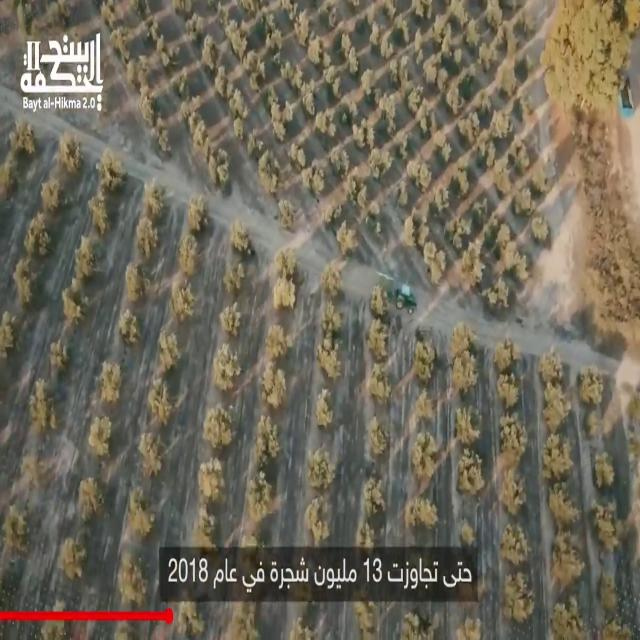trees: (186, 448, 237, 512), (344, 571, 390, 640), (18, 368, 57, 448), (489, 566, 537, 628), (83, 348, 126, 416), (575, 364, 610, 442), (55, 270, 100, 330), (238, 469, 281, 529), (448, 320, 479, 401), (202, 144, 240, 210), (544, 534, 591, 586), (6, 254, 44, 318), (587, 497, 627, 557), (538, 479, 586, 528), (293, 498, 339, 549), (164, 269, 204, 327), (67, 472, 107, 530), (242, 415, 284, 470), (124, 477, 160, 541), (535, 432, 581, 482), (142, 372, 183, 428), (285, 558, 336, 603), (182, 105, 217, 170), (180, 507, 224, 558), (116, 542, 150, 608), (541, 593, 588, 640), (70, 221, 108, 279), (14, 208, 56, 260), (125, 77, 164, 133), (497, 516, 537, 570), (134, 170, 171, 228), (256, 146, 290, 208), (307, 331, 346, 385), (250, 358, 292, 408), (262, 85, 298, 143), (74, 412, 114, 464), (8, 101, 40, 166), (204, 340, 243, 392), (298, 448, 342, 494), (54, 534, 91, 588), (0, 304, 27, 378), (452, 445, 488, 500), (119, 257, 155, 312), (2, 493, 28, 569), (195, 399, 237, 446), (536, 383, 574, 434), (348, 525, 391, 570), (359, 360, 398, 409), (135, 429, 170, 483), (130, 211, 162, 270), (226, 82, 252, 154), (92, 144, 126, 198), (266, 268, 304, 316), (495, 415, 536, 459), (110, 306, 144, 359), (32, 168, 68, 218), (172, 226, 204, 282), (174, 586, 207, 640), (150, 324, 187, 372), (502, 458, 535, 510), (56, 124, 84, 185), (362, 317, 398, 364), (403, 492, 438, 540), (411, 426, 442, 480), (180, 188, 214, 237), (238, 531, 270, 583), (105, 15, 137, 67), (306, 384, 342, 430), (490, 372, 529, 414), (86, 187, 120, 235), (452, 514, 482, 568), (308, 96, 338, 150), (116, 48, 156, 88), (42, 334, 76, 381), (366, 408, 396, 461), (213, 295, 246, 343), (296, 76, 329, 124), (324, 135, 358, 181), (218, 258, 257, 298), (283, 609, 333, 640), (409, 338, 440, 387), (481, 210, 514, 256), (588, 444, 618, 494), (222, 603, 262, 640), (325, 222, 366, 258), (0, 151, 25, 210), (222, 13, 253, 60), (483, 110, 520, 149), (34, 597, 70, 637), (360, 470, 388, 521), (342, 168, 372, 215), (418, 241, 452, 282), (405, 153, 434, 201), (316, 261, 351, 300), (224, 217, 258, 257), (262, 322, 295, 363), (365, 147, 398, 188), (240, 49, 270, 94), (298, 157, 327, 203), (474, 128, 501, 177), (505, 230, 527, 290), (462, 238, 488, 288), (149, 114, 172, 170), (420, 56, 448, 102), (274, 191, 301, 238), (534, 343, 566, 382), (597, 561, 621, 612), (374, 87, 398, 138), (337, 29, 363, 76), (453, 411, 486, 448), (155, 34, 185, 74), (510, 181, 539, 222), (598, 607, 634, 640), (488, 62, 520, 99), (164, 66, 195, 104), (492, 155, 518, 200), (260, 22, 284, 70), (138, 12, 163, 58), (392, 7, 420, 48), (531, 202, 553, 254), (442, 212, 472, 250), (404, 208, 432, 248), (510, 130, 533, 178), (366, 20, 394, 59), (316, 300, 348, 334), (271, 245, 301, 281), (534, 155, 558, 200), (454, 110, 481, 150), (480, 0, 510, 36), (486, 274, 511, 317), (407, 389, 436, 426), (493, 333, 522, 370), (282, 135, 310, 173), (198, 32, 222, 75), (495, 20, 522, 58), (280, 52, 305, 93), (446, 0, 472, 39), (413, 98, 441, 134), (449, 162, 479, 195), (442, 84, 468, 122), (427, 11, 453, 49), (359, 58, 380, 105), (409, 0, 435, 37), (365, 283, 394, 316), (321, 62, 345, 101), (386, 52, 412, 88), (210, 62, 236, 96), (286, 10, 312, 44), (454, 56, 480, 90), (181, 8, 206, 42), (432, 183, 456, 218), (462, 16, 482, 57), (407, 28, 428, 66), (353, 117, 377, 149), (475, 42, 499, 74), (390, 179, 414, 210), (398, 82, 424, 110), (470, 194, 496, 222), (393, 123, 412, 161), (305, 34, 328, 65), (470, 88, 496, 115), (339, 96, 363, 125), (438, 30, 461, 60), (255, 10, 278, 36), (433, 134, 453, 163)
